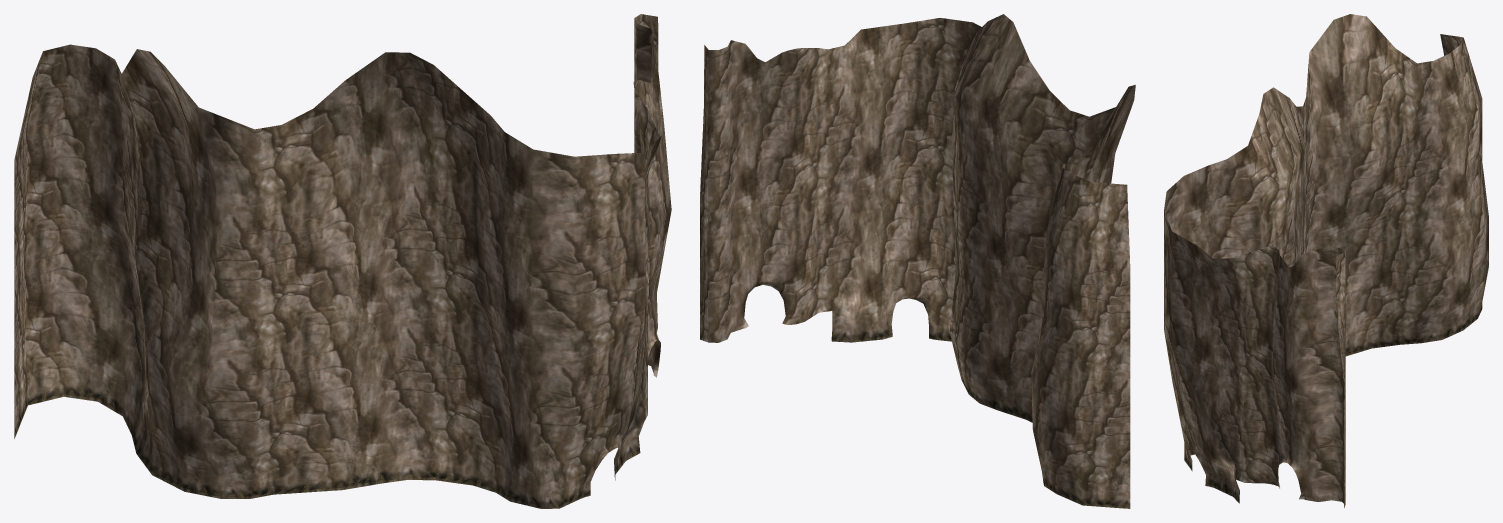
Rendered from OVERHILL_A_01_OBJECT07.fbx.
The picture shows the model from 3 angles, left to right: view 1: azimuth 30°, elevation 25°; view 2: azimuth 150°, elevation 25°; view 3: azimuth 270°, elevation 25°; orthographic projection. The views are drawn at different scales.
Visible parts, largest first — view 1: OVERHILL_A_01_OBJECT07; view 2: OVERHILL_A_01_OBJECT07; view 3: OVERHILL_A_01_OBJECT07.
Part boxes in pixels (<box>): OVERHILL_A_01_OBJECT07: <box>14,14,671,508</box>; OVERHILL_A_01_OBJECT07: <box>700,14,1135,508</box>; OVERHILL_A_01_OBJECT07: <box>1164,14,1488,507</box>.
Bounding box in the file's own units: 314552 × 237736 × 207557.
2 materials, 2 textured.
